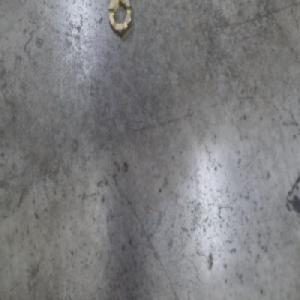Nut: (107, 0, 133, 36)
